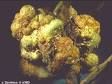Diseased_Leaves: (41, 39, 62, 73), (62, 18, 81, 43), (76, 47, 92, 74), (23, 8, 43, 27)
